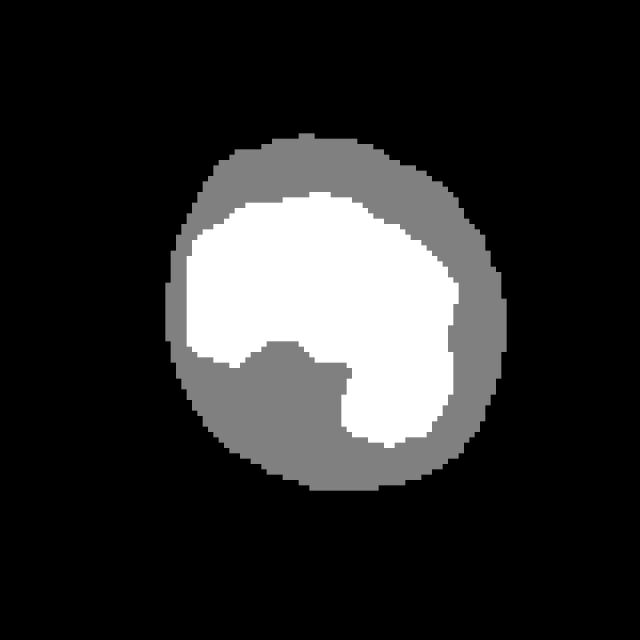WBC: (138, 122, 522, 506)
